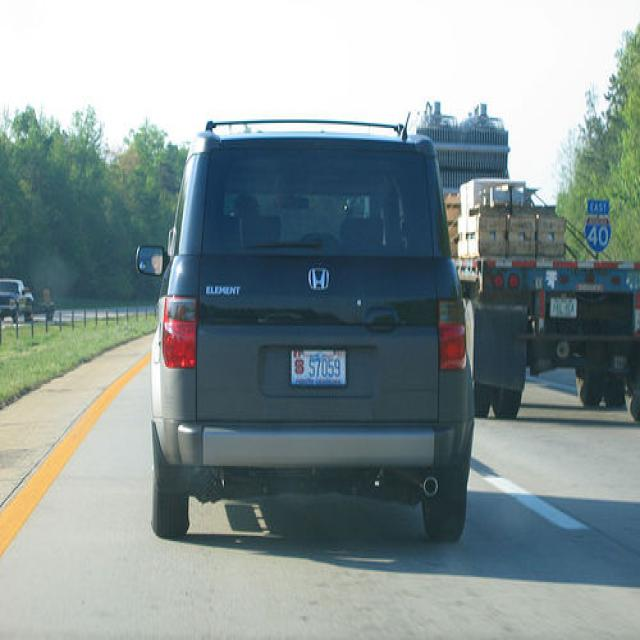car: (135, 119, 476, 545), (1, 274, 36, 325)
